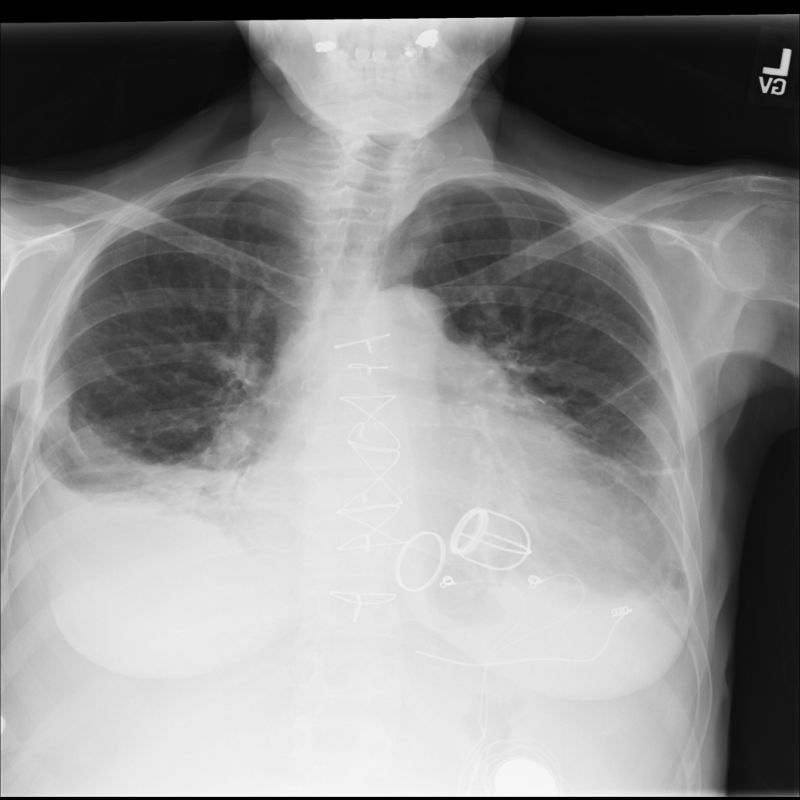PLEURAL EFFUSION: (2, 432, 129, 584), (627, 450, 687, 589)
